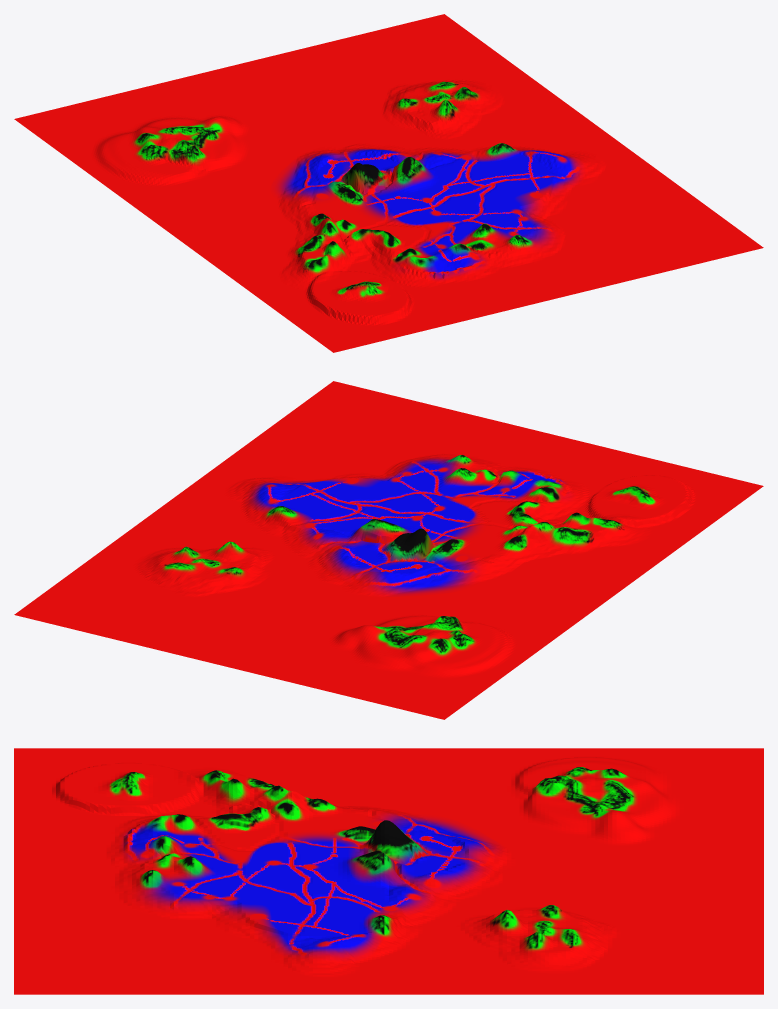
The model's file is world.fbx.
3 views of the same model, one above another, from view 1: azimuth 30°, elevation 25°; view 2: azimuth 150°, elevation 25°; view 3: azimuth 270°, elevation 25° (orthographic). The views are drawn at different scales.
Parts seen in each view (by area): view 1: MAP; view 2: MAP; view 3: MAP.
Part boxes in pixels (left/top/right/bottom): MAP: left=14, top=14, right=763, bottom=352; MAP: left=14, top=381, right=763, bottom=719; MAP: left=14, top=748, right=763, bottom=994.
Bounding box in the file's own units: 14000 × 879 × 18000.
Materials: 1 (1 with a texture image).
